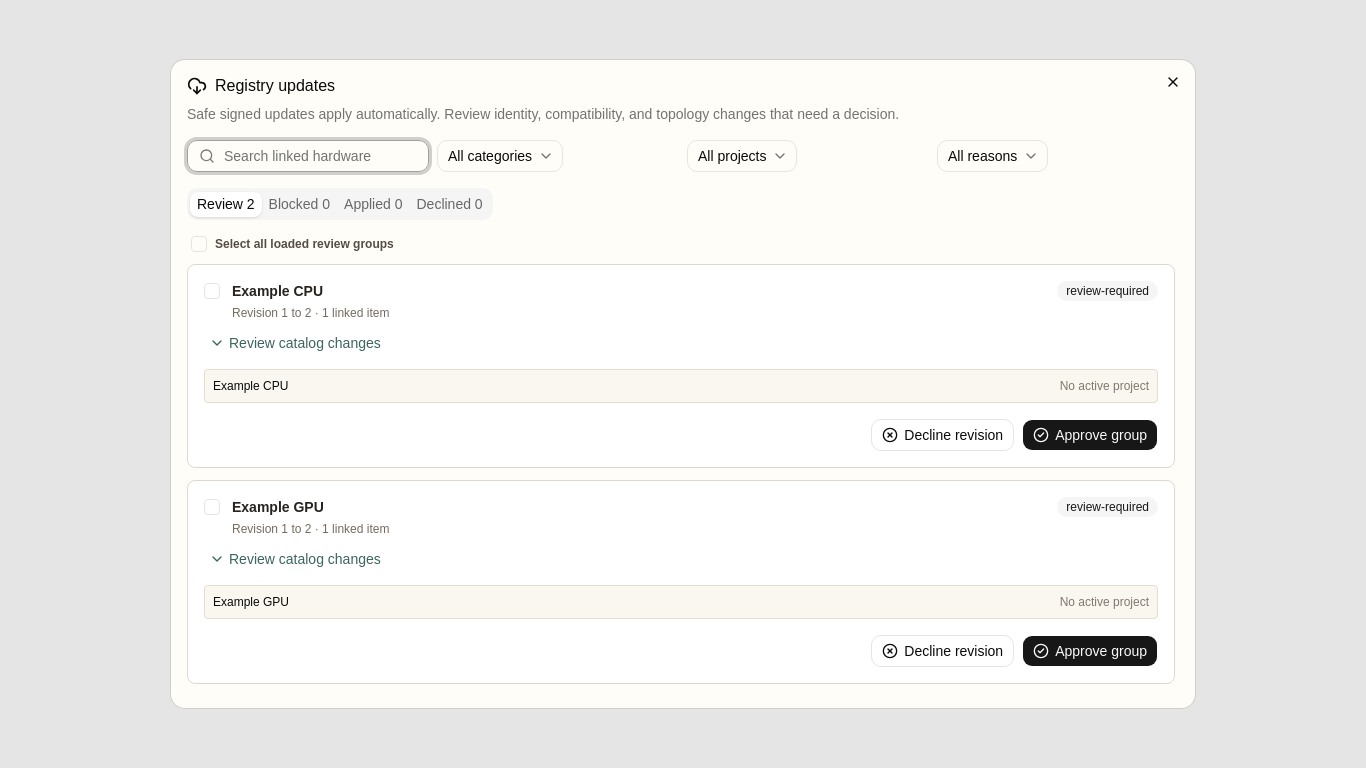
Test: RegistryUpdatesDialog › loads compact groups and fetches definition changes only after expansion
What coordinates should you click on to do the following:
click the 1st button "Review catalog changes"
I would click on:
 (295, 343)
Its box is left=204, top=329, right=386, bottom=357.
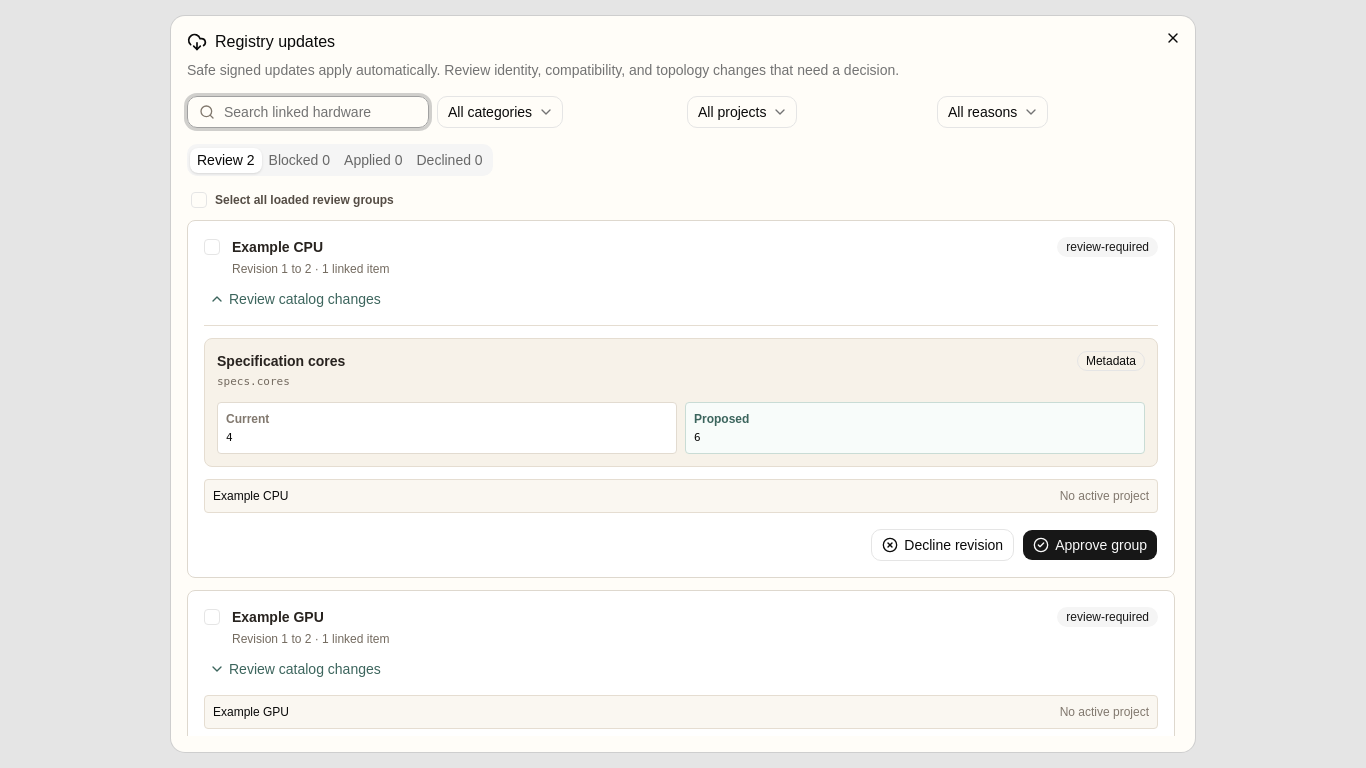
expect the text "specs.cores" is shown: met, box left=217, top=375, right=290, bottom=388
